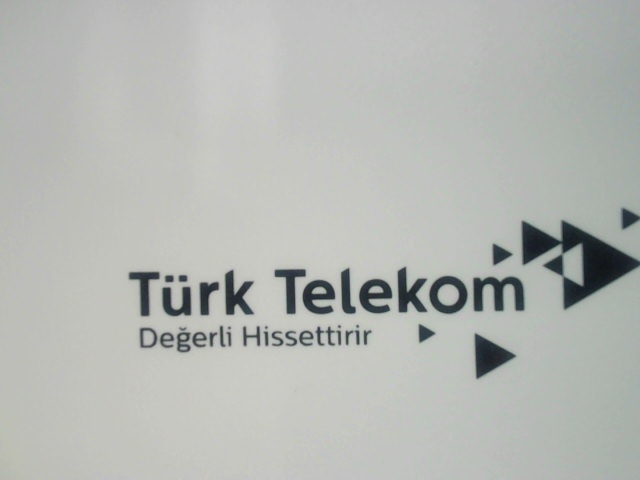AQ_TURKTelekom: (121, 204, 637, 391)
